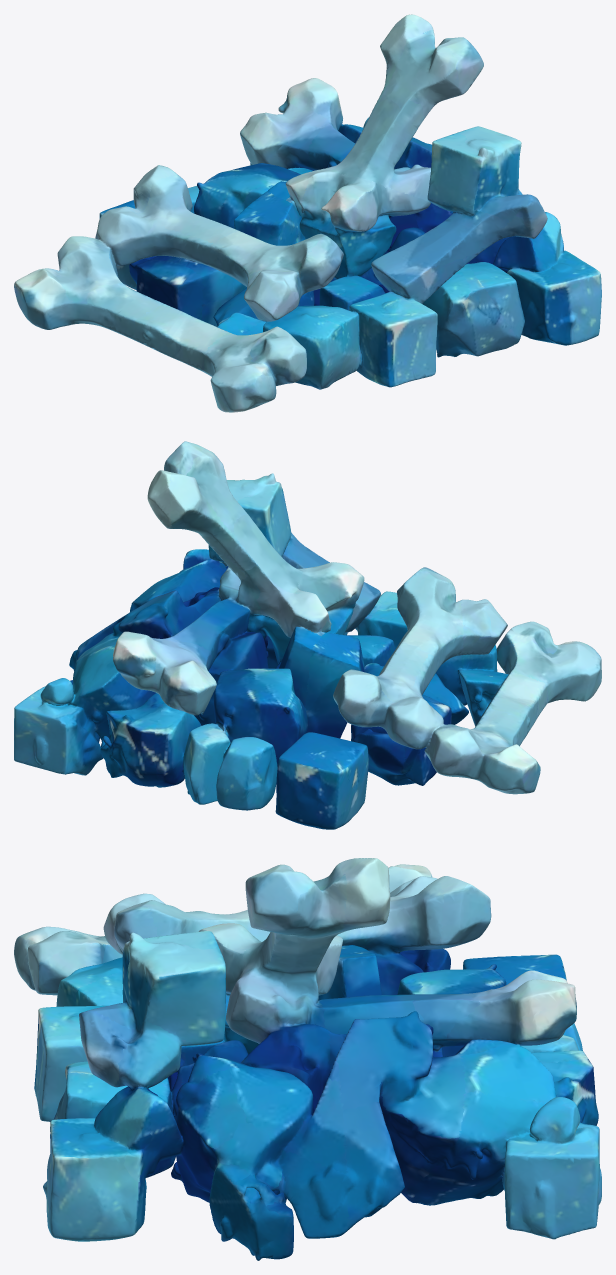
Rendered from icebone.opt.glb.
3 renders of one model, top to bottom at view 1: azimuth 30°, elevation 25°; view 2: azimuth 150°, elevation 25°; view 3: azimuth 270°, elevation 25°, orthographic. The views are drawn at different scales.
Parts seen in each view (by area): view 1: tripo_node_a469c3b2-35f6-4cf0-a44f-89663747f4e3; view 2: tripo_node_a469c3b2-35f6-4cf0-a44f-89663747f4e3; view 3: tripo_node_a469c3b2-35f6-4cf0-a44f-89663747f4e3.
Part boxes in pixels (x1,y1,x2,y2): tripo_node_a469c3b2-35f6-4cf0-a44f-89663747f4e3: [14, 14, 601, 412]; tripo_node_a469c3b2-35f6-4cf0-a44f-89663747f4e3: [14, 441, 601, 829]; tripo_node_a469c3b2-35f6-4cf0-a44f-89663747f4e3: [14, 858, 601, 1260].
Size of the model in its own units: 0.9999 by 0.5234 by 0.7952.
1 material, 1 textured.
